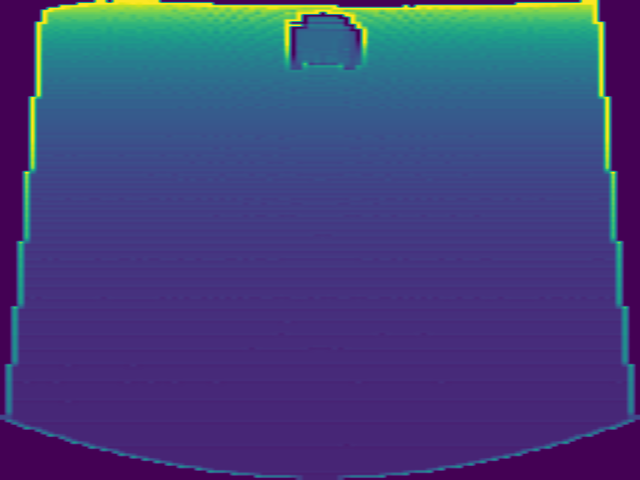car_0027: (282, 8, 371, 74)
